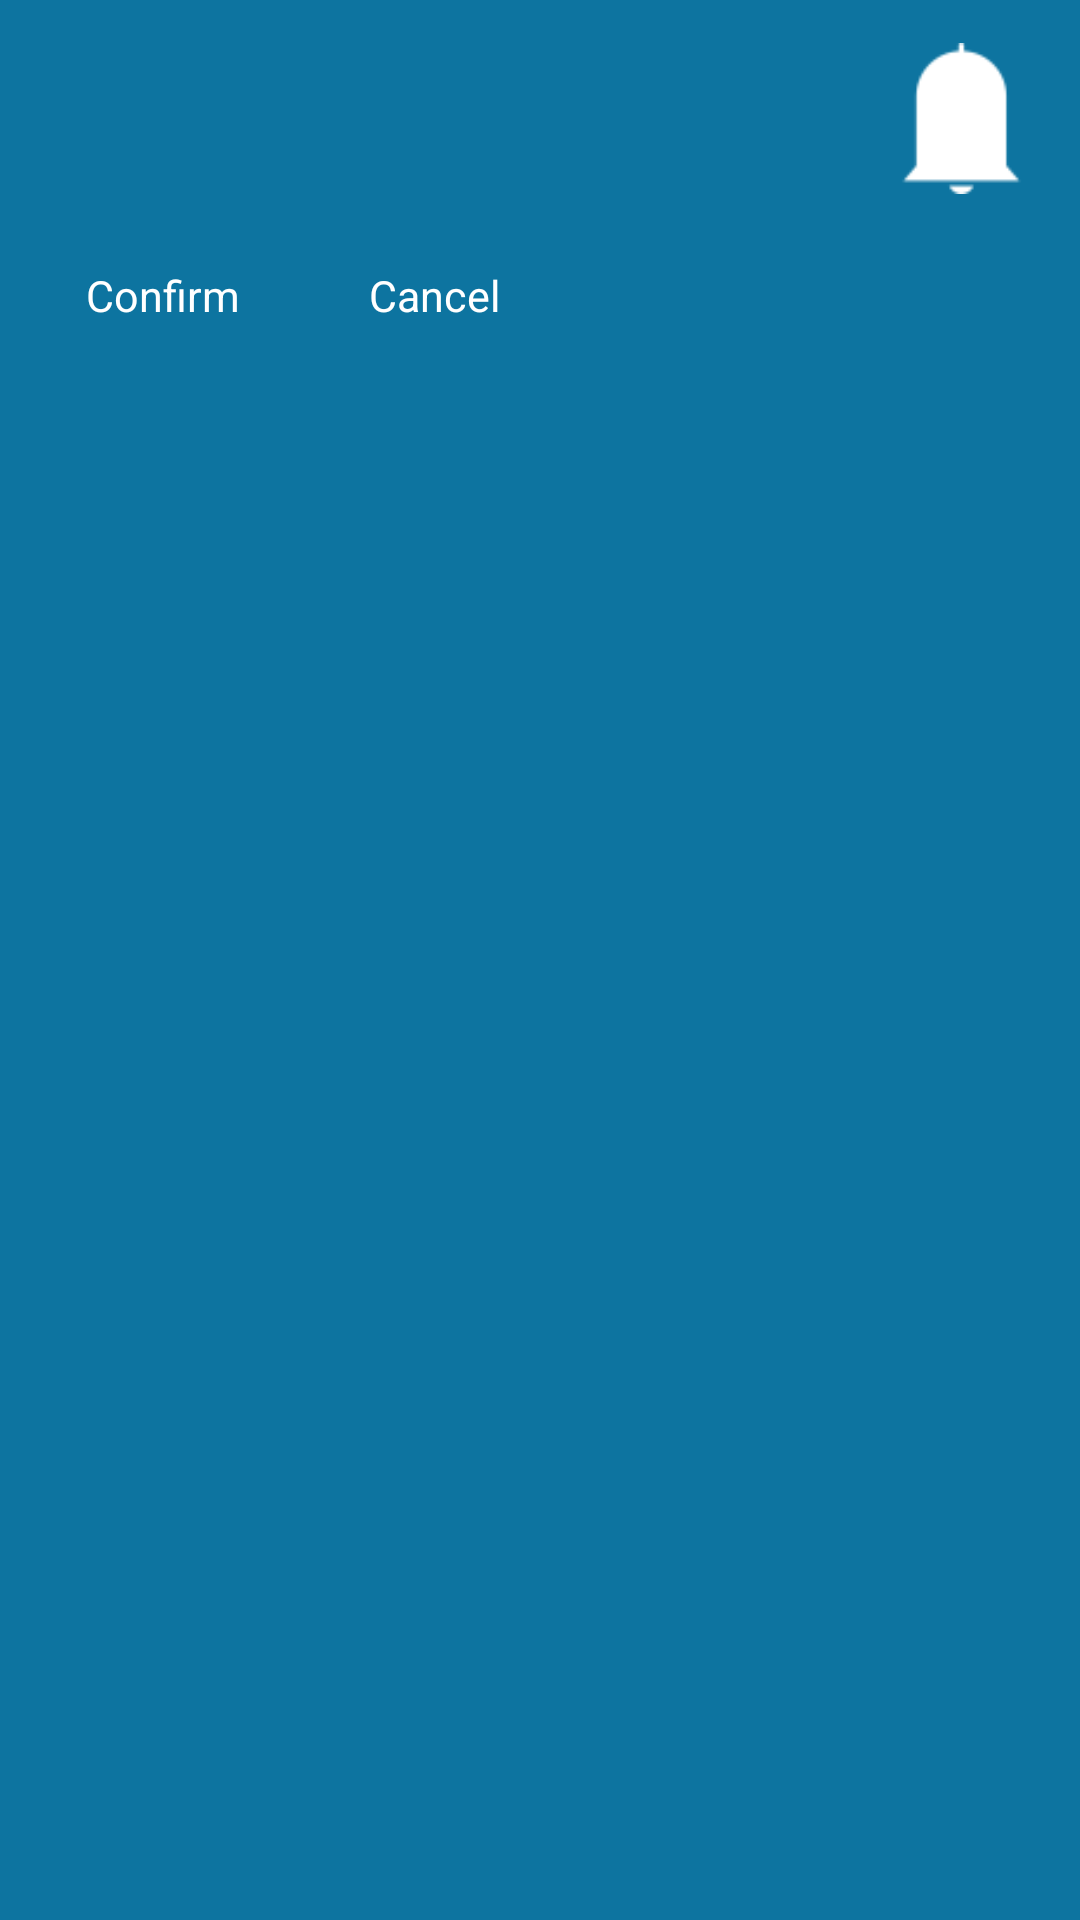

Icons on this 1080w x 1920h Android screen, each with the point to tap as (x=x, y=y):
alert: (x=961, y=118)
